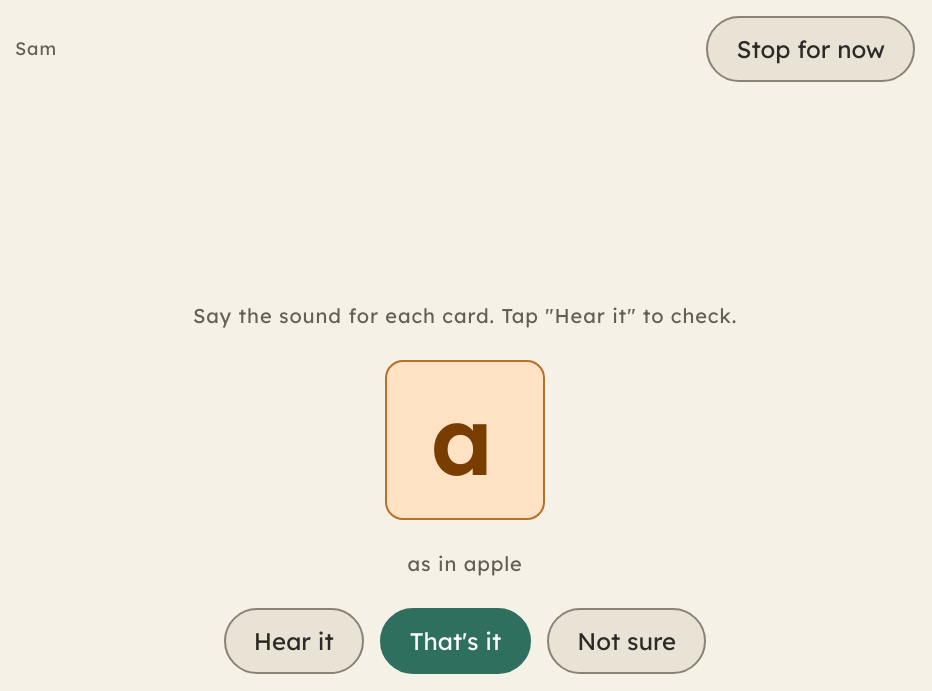
it: SessionRunner › shows the retry screen when a save hangs past the timeout
Click the button "Stop for now". click: (811, 49)
box: left=706, top=16, right=915, bottom=82
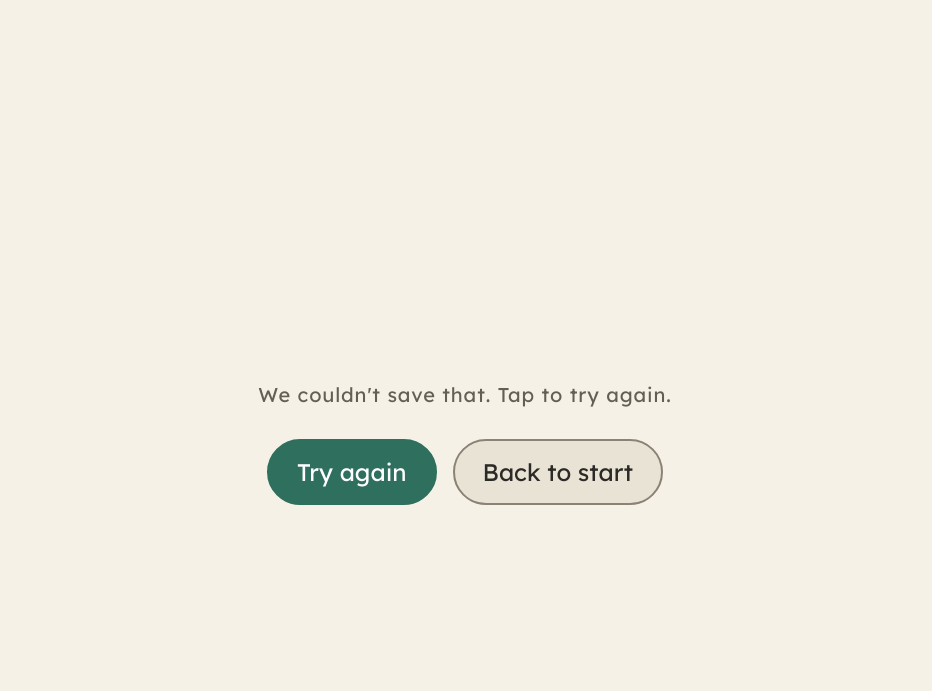
Expected: the button "Try again" is shown, left=267, top=439, right=437, bottom=505
Expected: the text "We couldn't save that. Tap to try again." is shown, left=258, top=379, right=672, bottom=411
